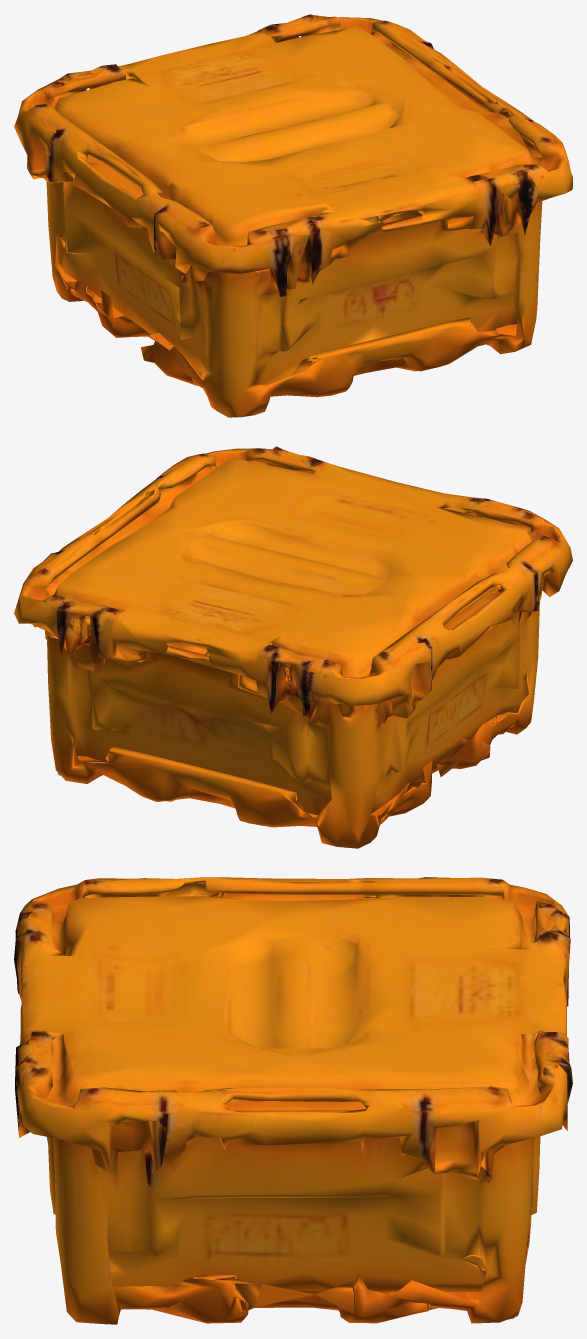
The model's file is manifest_crate.glb.
3 renders of one model, top to bottom at view 1: azimuth 30°, elevation 25°; view 2: azimuth 150°, elevation 25°; view 3: azimuth 270°, elevation 25°, orthographic. The views are drawn at different scales.
Parts seen in each view (by area): view 1: geometry_0; view 2: geometry_0; view 3: geometry_0.
Part boxes in pixels (x1,y1,x2,y2): geometry_0: (14,14,572,417); geometry_0: (14,446,572,848); geometry_0: (14,877,572,1324).
Bounding box in the file's own units: 1 × 0.493 × 0.9981.
Materials: 1 (1 with a texture image).
